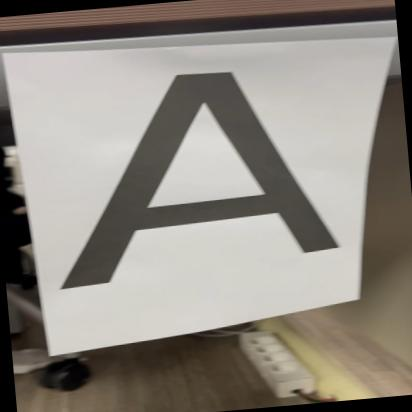seat: (37, 50, 358, 300)
